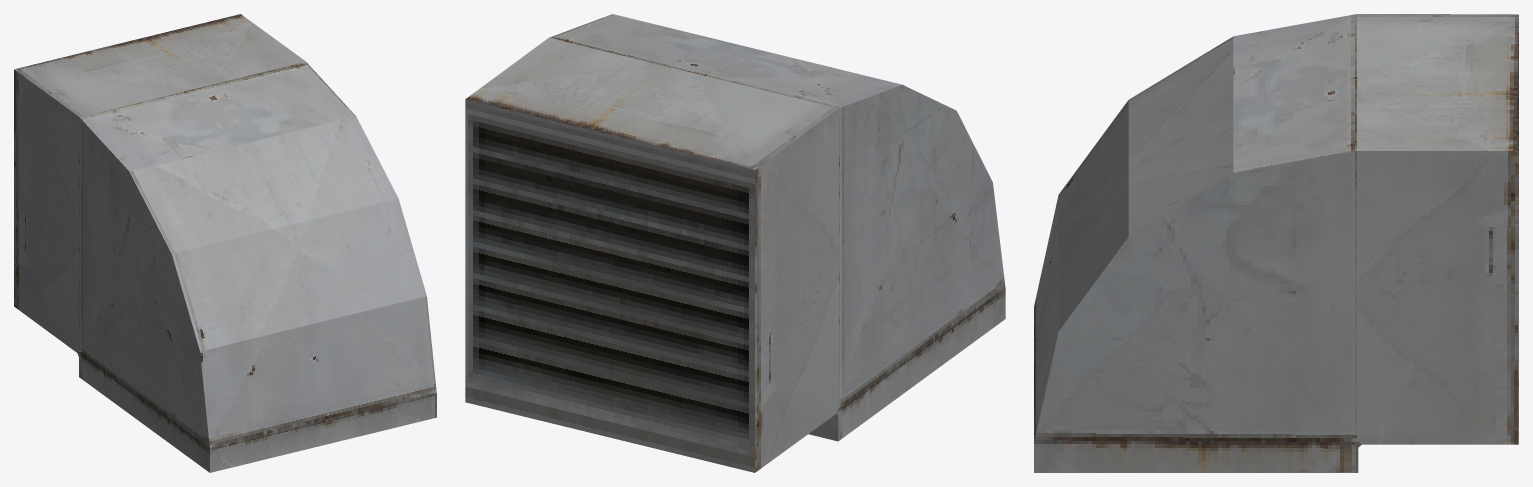
Rendered from vent_end_closed.glb.
3 views of the same model, side by side, from view 1: azimuth 30°, elevation 25°; view 2: azimuth 150°, elevation 25°; view 3: azimuth 270°, elevation 25° (orthographic). The views are drawn at different scales.
Parts seen in each view (by area): view 1: end_closed; view 2: end_closed; view 3: end_closed.
Part boxes in pixels (x1,y1,x2,y2): end_closed: (14, 14, 436, 472); end_closed: (465, 14, 1005, 472); end_closed: (1034, 14, 1518, 472).
Size of the model in its own units: 1.01 by 1.1 by 1.51.
1 material, 1 textured.
